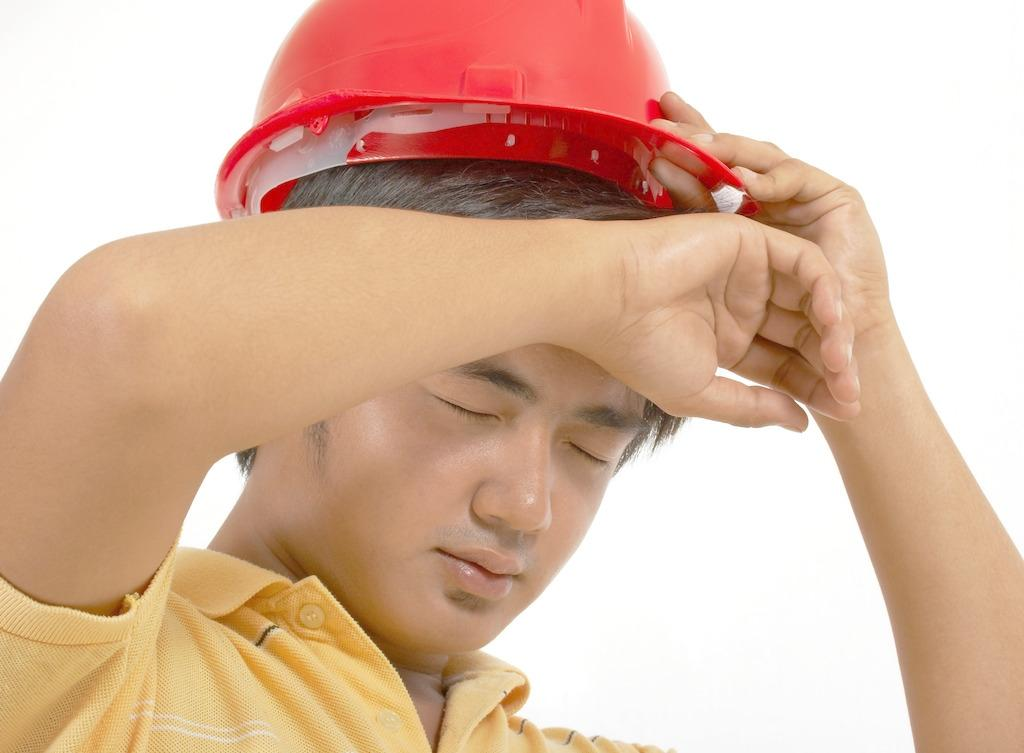helmet: (211, 0, 775, 246)
